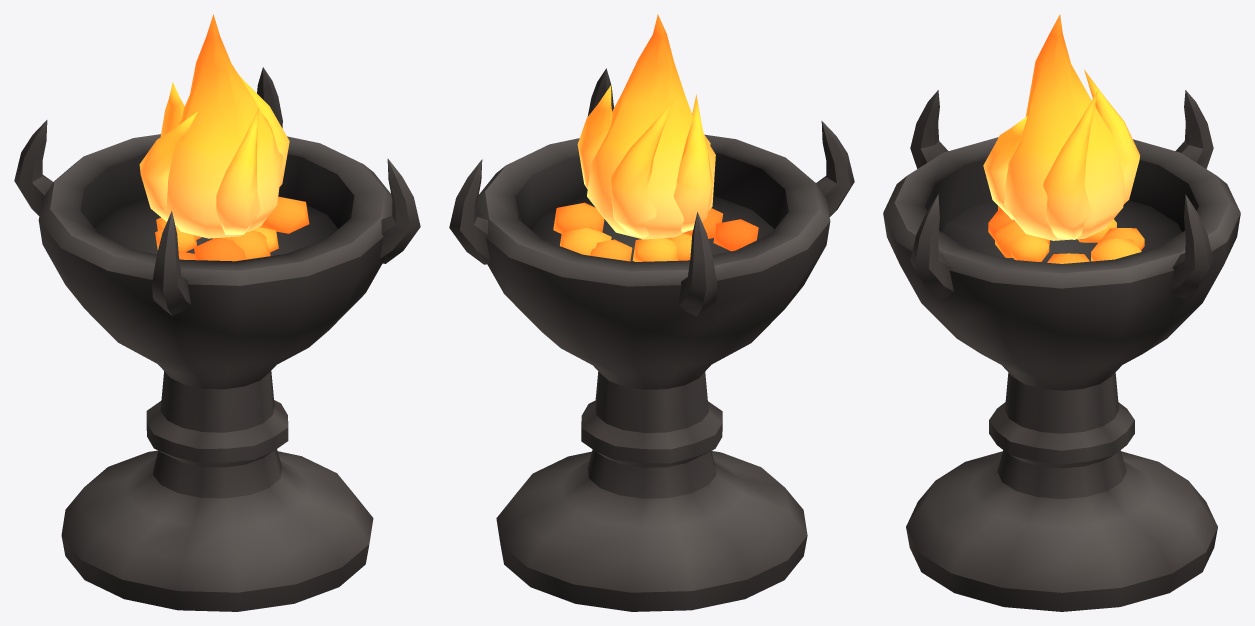
Rendered from fire_bowl.glb.
3 views of the same model, side by side, from view 1: azimuth 30°, elevation 25°; view 2: azimuth 150°, elevation 25°; view 3: azimuth 270°, elevation 25° (orthographic).
Visible parts, largest first — view 1: fire_bowl; view 2: fire_bowl; view 3: fire_bowl.
Part boxes in pixels (box(x1,y1,x2,y2)): fire_bowl: box(14, 14, 420, 611); fire_bowl: box(449, 14, 854, 611); fire_bowl: box(883, 14, 1240, 611).
Bounding box in the file's own units: 0.94 × 1.54 × 0.94.
